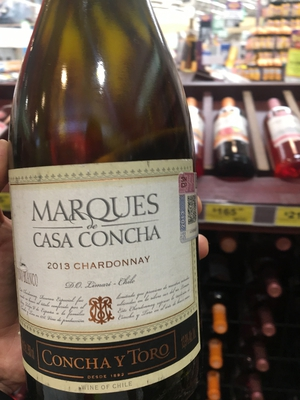marques de casa concha chardonnay: (12, 1, 217, 400)
